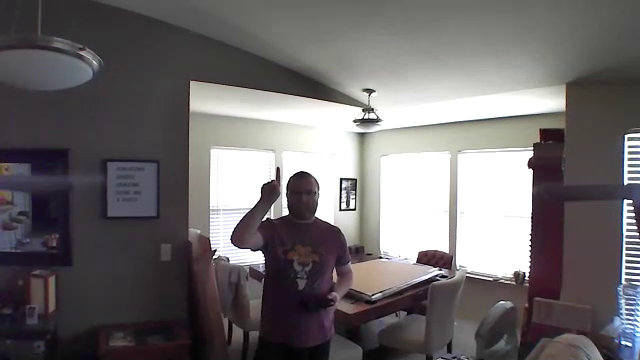up: (257, 165, 283, 206)
